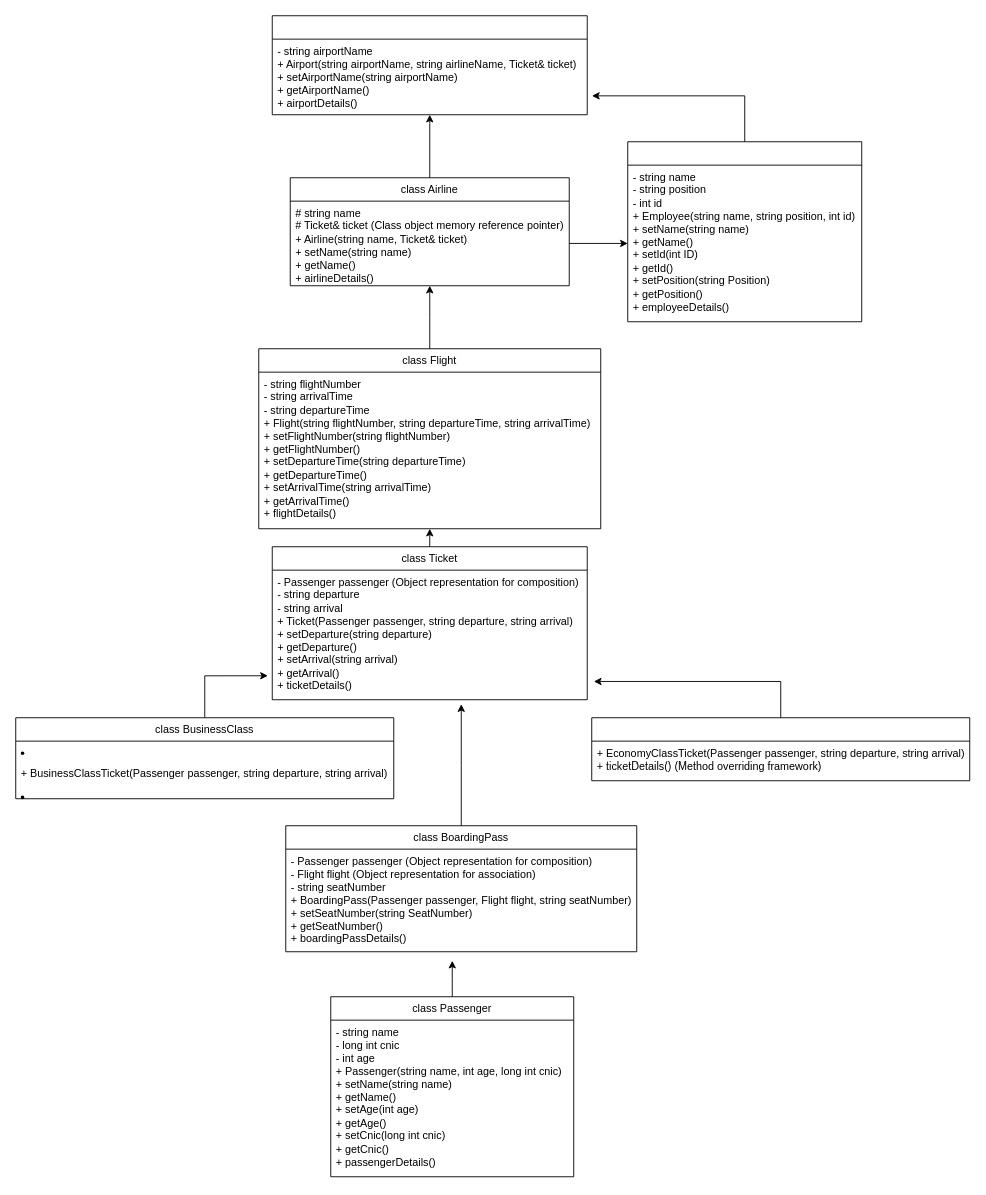
Some shapes in this 986 by 1195 pixel diagram are drawn without their labels. The box of each missing label's shape, as (x1, y1, x2, y2) in pixels:
class Airport: (271, 15, 587, 115)
class EconomyClass: (591, 717, 970, 781)
class Employee: (627, 141, 862, 322)
